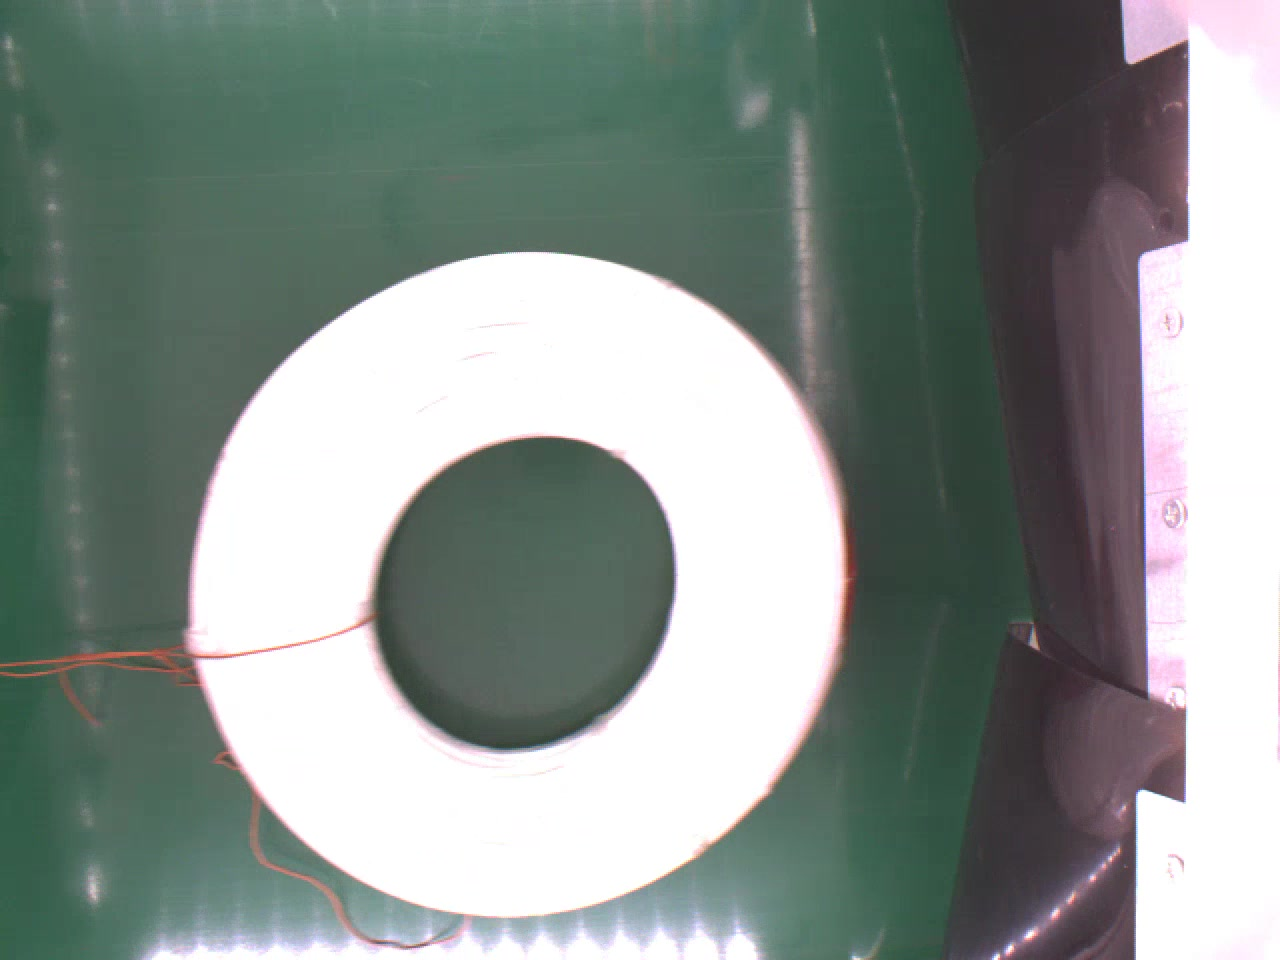white: (185, 244, 863, 915)
